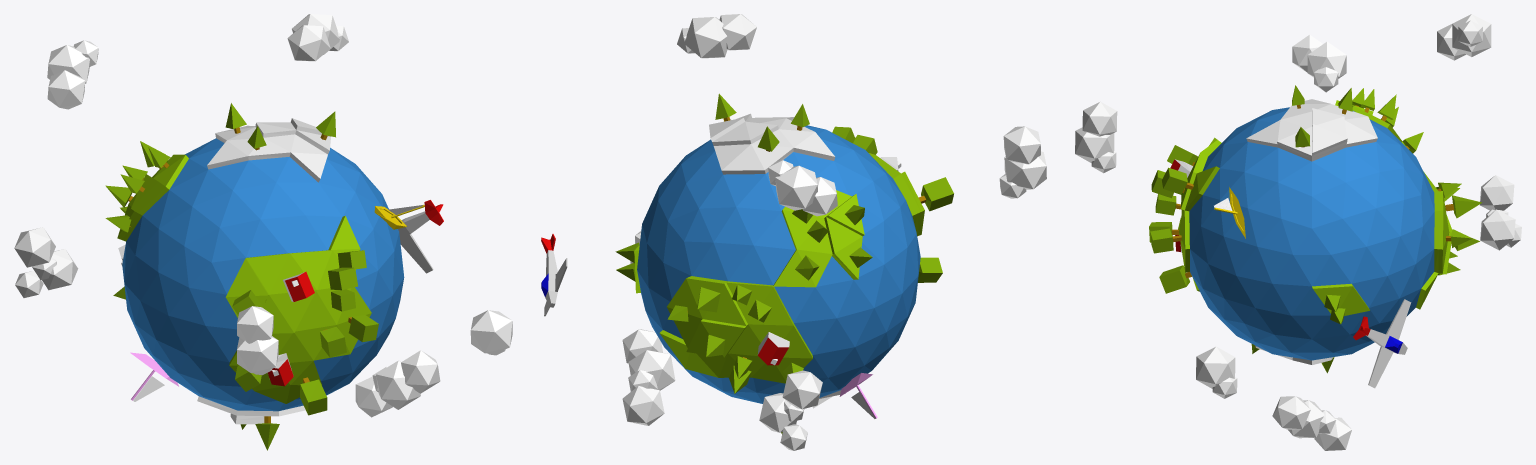
The model's file is low_poly-world.glb.
The picture shows the model from 3 angles, left to right: view 1: azimuth 30°, elevation 25°; view 2: azimuth 150°, elevation 25°; view 3: azimuth 270°, elevation 25°; orthographic projection. The views are drawn at different scales.
Parts seen in each view (by area): view 1: group_4.004, group_4.003, group_4.005, group_4.006, Icosphere.011, group_6.001, Icosphere.008, Icosphere.014, Icosphere.001, Icosphere.010, Icosphere.013, Icosphere.004 (+14 smaller); view 2: group_4.004, group_4.006, group_4.005, Icosphere.005, Icosphere.002, Icosphere.016, Icosphere.010, Icosphere.007, Icosphere.014, Icosphere.008, group_6.001, group_4.003 (+9 smaller); view 3: group_4.004, group_4.005, group_4.006, group_4.003, group_6.001, Icosphere.011, Icosphere.019, Icosphere.007, group_4.008, Icosphere.013, Icosphere.008, Icosphere.010 (+12 smaller).
Part boxes in pixels (box(x1,y1,x2,y2)): group_4.004: box(122, 138, 404, 411); group_4.003: box(225, 215, 371, 403); group_4.005: box(207, 118, 331, 182); group_4.006: box(117, 154, 188, 241); Icosphere.011: box(470, 310, 512, 354); group_6.001: box(398, 200, 443, 273); Icosphere.008: box(237, 336, 278, 374); Icosphere.014: box(376, 360, 420, 409); Icosphere.001: box(287, 25, 330, 61); Icosphere.010: box(14, 227, 55, 267); Icosphere.013: box(401, 350, 440, 393); Icosphere.004: box(47, 70, 85, 109); group_4.004: box(637, 125, 920, 403); group_4.006: box(659, 190, 864, 383); group_4.005: box(709, 113, 835, 174); Icosphere.005: box(775, 165, 817, 210); Icosphere.002: box(684, 17, 727, 58); Icosphere.016: box(622, 386, 664, 425); Icosphere.010: box(782, 370, 822, 409); Icosphere.007: box(1003, 126, 1040, 164); Icosphere.014: box(628, 350, 675, 390); Icosphere.008: box(1004, 151, 1046, 189); group_6.001: box(541, 234, 567, 316); group_4.003: box(869, 153, 924, 236); group_4.004: box(1189, 107, 1434, 360); group_4.005: box(1246, 99, 1377, 161); group_4.006: box(1335, 100, 1452, 309); group_4.003: box(1179, 137, 1221, 291); group_6.001: box(1353, 299, 1411, 388); Icosphere.011: box(1196, 346, 1235, 388); Icosphere.019: box(1480, 209, 1515, 250); Icosphere.007: box(1082, 101, 1117, 136); group_4.008: box(1312, 283, 1369, 315); Icosphere.013: box(1272, 396, 1310, 429); Icosphere.008: box(1075, 127, 1114, 162); Icosphere.010: box(1480, 175, 1514, 210).
Size of the model in its own units: 2.89 by 3.27 by 3.48.
